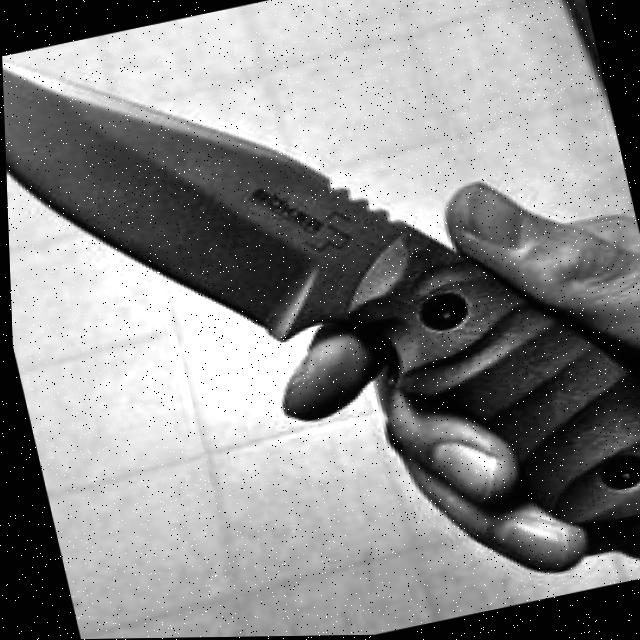knife: (0, 0, 640, 638)
